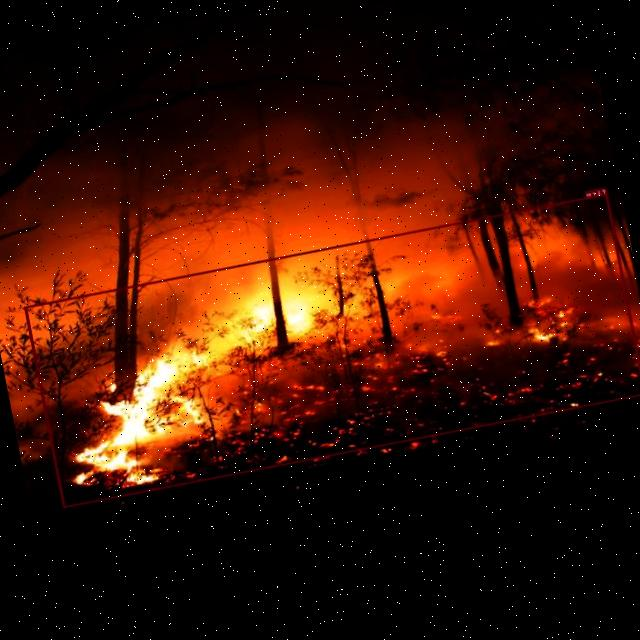fire: (25, 193, 640, 508)
